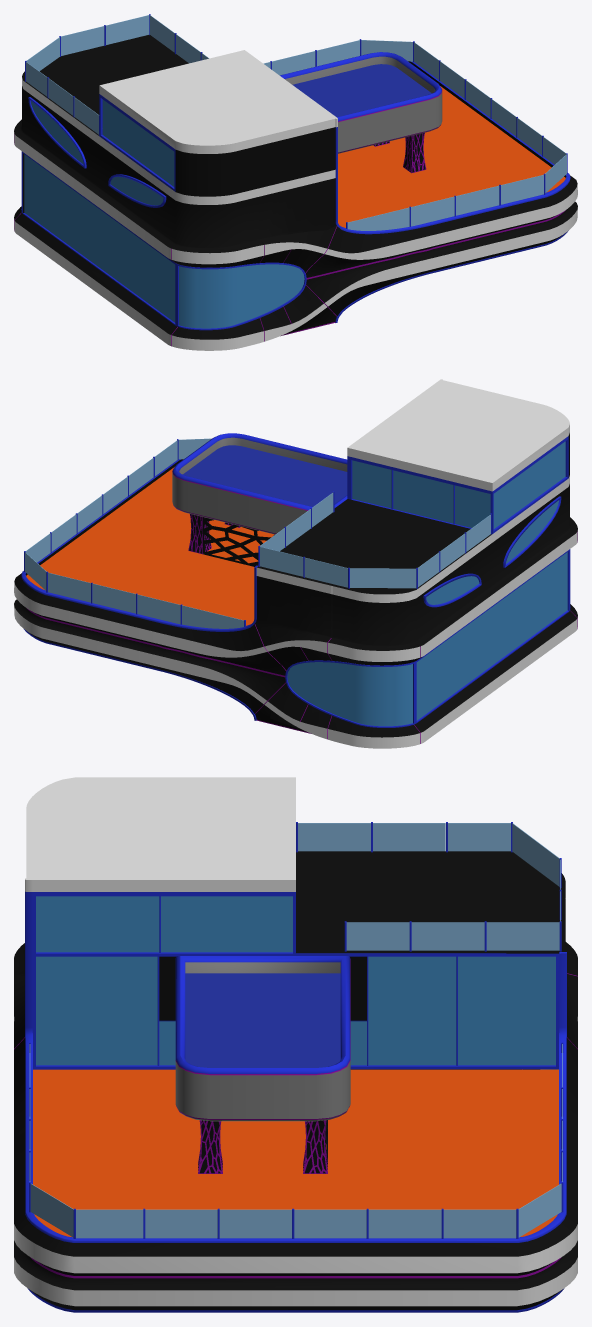
Rendered from SM_Building_MK3_Up_02.fbx.
3 views of the same model, one above another, from view 1: azimuth 30°, elevation 25°; view 2: azimuth 150°, elevation 25°; view 3: azimuth 270°, elevation 25° (orthographic). The views are drawn at different scales.
Visible parts, largest first — view 1: UP_02; view 2: UP_02; view 3: UP_02.
Boxes of the visible parts, x1,y1,x2,y2 form: UP_02: (14,14,577,350); UP_02: (14,379,577,748); UP_02: (14,777,577,1312).
Size of the model in its own units: 2092 by 1000 by 1731.
